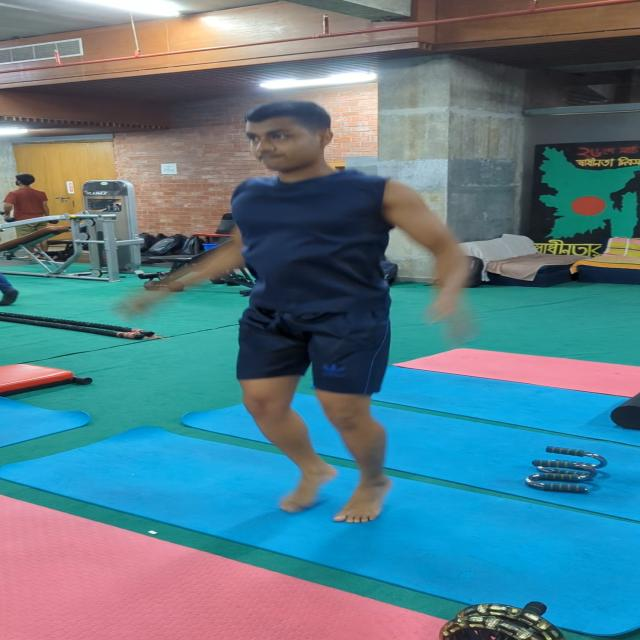Normal_JumpingJacks: (136, 72, 456, 536)
